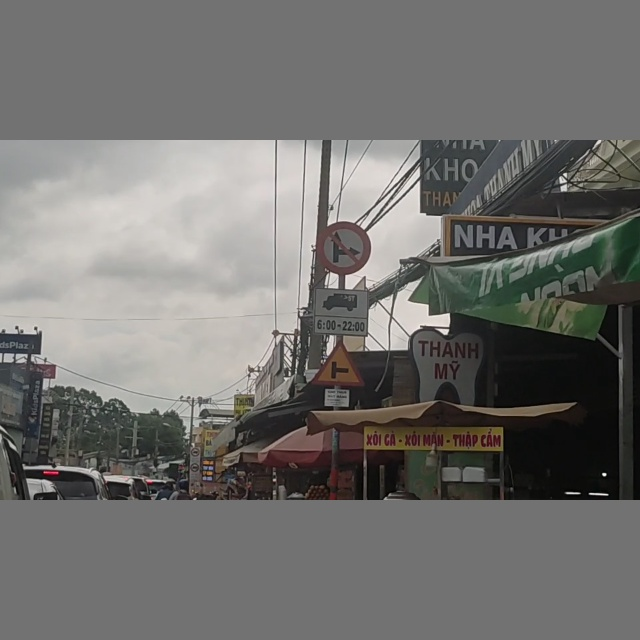P.139: (317, 220, 370, 274)
S.505a*Xe tai: (314, 289, 369, 336)
W.205b: (315, 341, 365, 386)
